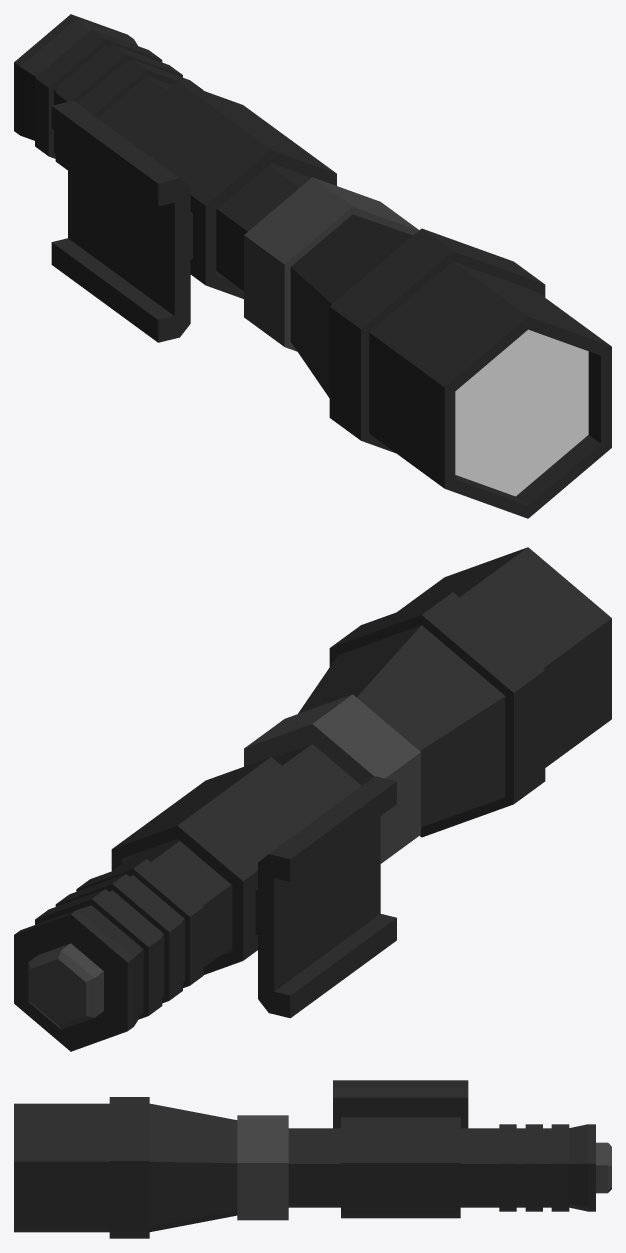
File: Light_A_Left.fbx
The picture shows the model from 3 angles, top to bottom: view 1: azimuth 30°, elevation 25°; view 2: azimuth 150°, elevation 25°; view 3: azimuth 270°, elevation 25°; orthographic projection. The views are drawn at different scales.
Visible parts, largest first — view 1: Light_A_Left, Light_A_Left_Part; view 2: Light_A_Left, Light_A_Left_Part; view 3: Light_A_Left, Light_A_Left_Part.
Part boxes in pixels (<box>): Light_A_Left: <box>14,14,611,518</box>; Light_A_Left_Part: <box>51,81,336,342</box>; Light_A_Left: <box>14,547,611,1051</box>; Light_A_Left_Part: <box>111,757,396,1018</box>; Light_A_Left: <box>14,1097,611,1238</box>; Light_A_Left_Part: <box>333,1080,468,1218</box>.
Size of the model in its own units: 0.0487 by 0.049 by 0.1875.
